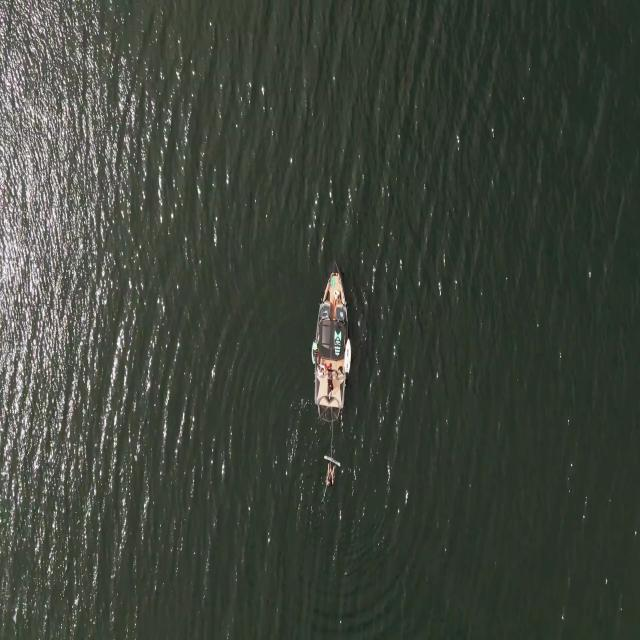ship: (312, 260, 346, 427), (343, 333, 352, 376)
